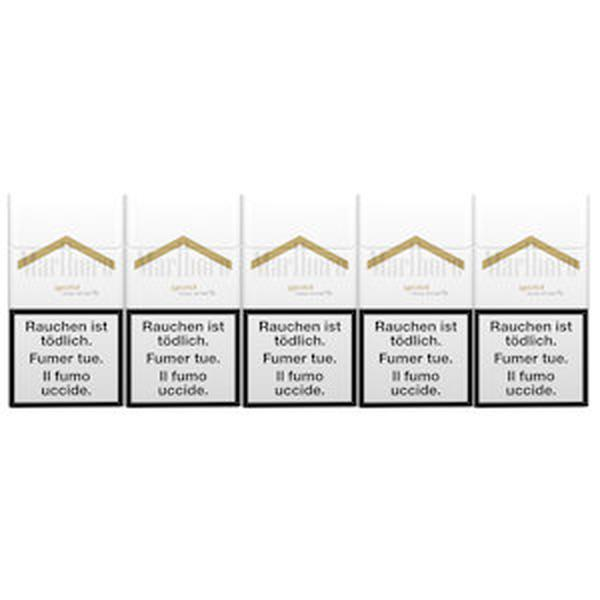marlboro_gold: (122, 194, 242, 404), (358, 197, 472, 406), (242, 201, 355, 409), (12, 197, 122, 406), (477, 194, 585, 404)
